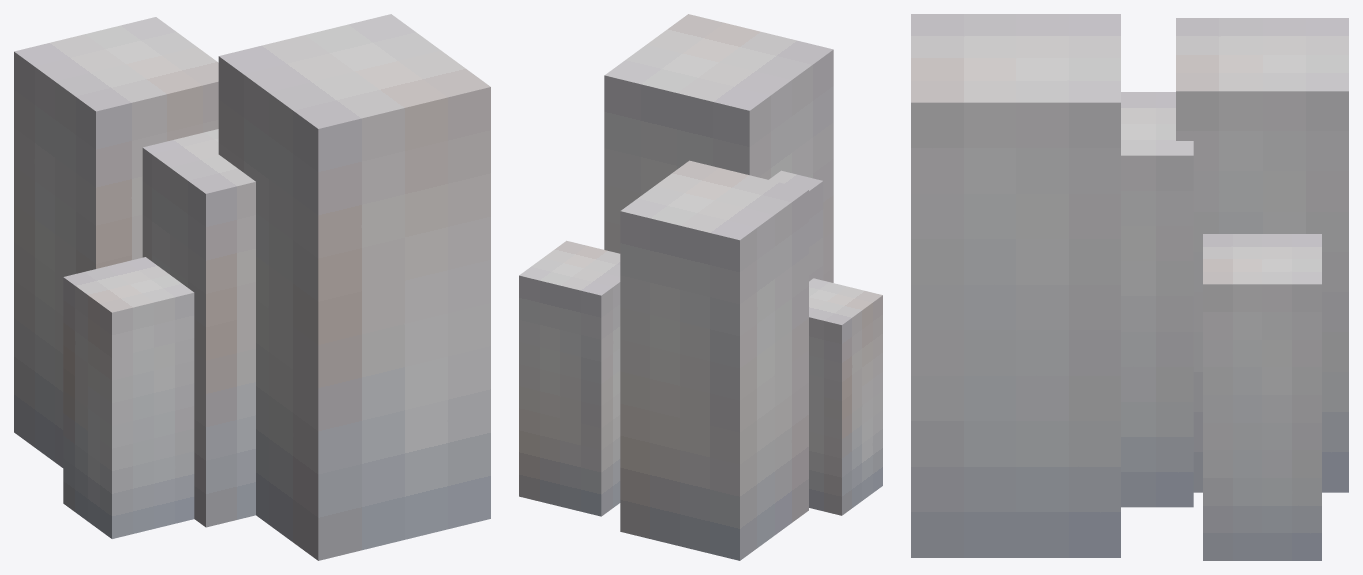
Rendered from dolomite_crystal_five.obj.
3 renders of one model, left to right at view 1: azimuth 30°, elevation 25°; view 2: azimuth 150°, elevation 25°; view 3: azimuth 270°, elevation 25°, orthographic. The views are drawn at different scales.
Parts seen in each view (by area): view 1: Crystal4_Cube.000, Crystal1_Cube.003, Crystal2_Cube.002, Crystal3_Cube.001; view 2: Crystal1_Cube.003, Crystal4_Cube.000, Crystal5_Cube.008, Crystal2_Cube.002, Crystal3_Cube.001; view 3: Crystal4_Cube.000, Crystal1_Cube.003, Crystal5_Cube.008, Crystal3_Cube.001.
Boxes of the visible parts, bbox=[...] form: Crystal4_Cube.000: bbox=[218, 14, 490, 560]; Crystal1_Cube.003: bbox=[14, 17, 218, 467]; Crystal2_Cube.002: bbox=[63, 257, 194, 538]; Crystal3_Cube.001: bbox=[142, 129, 255, 527]; Crystal1_Cube.003: bbox=[620, 160, 808, 560]; Crystal4_Cube.000: bbox=[604, 14, 833, 282]; Crystal5_Cube.008: bbox=[519, 240, 620, 516]; Crystal2_Cube.002: bbox=[809, 278, 882, 515]; Crystal3_Cube.001: bbox=[769, 170, 823, 281]; Crystal4_Cube.000: bbox=[911, 14, 1120, 557]; Crystal1_Cube.003: bbox=[1176, 18, 1348, 492]; Crystal5_Cube.008: bbox=[1203, 234, 1321, 560]; Crystal3_Cube.001: bbox=[1121, 92, 1193, 507].
Size of the model in its own units: 0.4881 by 0.6473 by 0.5645.
